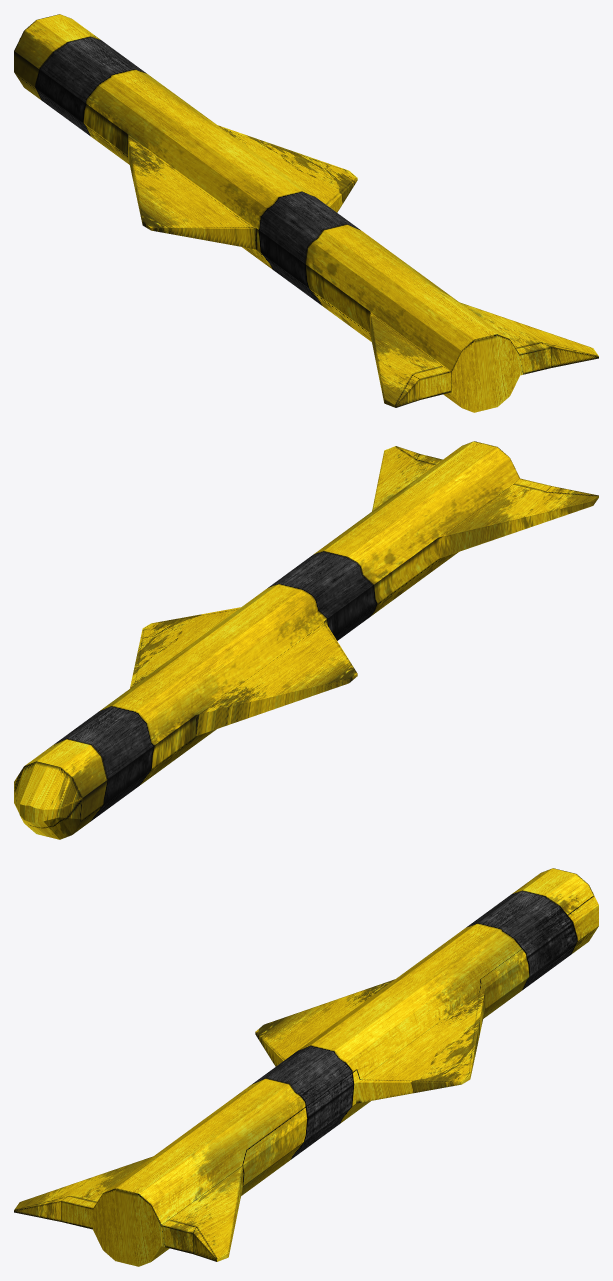
File: Missile_Pegasus.fbx
3 renders of one model, top to bottom at view 1: azimuth 30°, elevation 25°; view 2: azimuth 150°, elevation 25°; view 3: azimuth 330°, elevation 25°, orthographic.
Parts seen in each view (by area): view 1: Missile.001; view 2: Missile.001; view 3: Missile.001.
Part boxes in pixels (left/top/right/bottom): Missile.001: left=14, top=14, right=598, bottom=412; Missile.001: left=14, top=441, right=598, bottom=839; Missile.001: left=14, top=868, right=598, bottom=1266.
Size of the model in its own units: 274 by 90.97 by 1062.
Materials: 1 (1 with a texture image).
